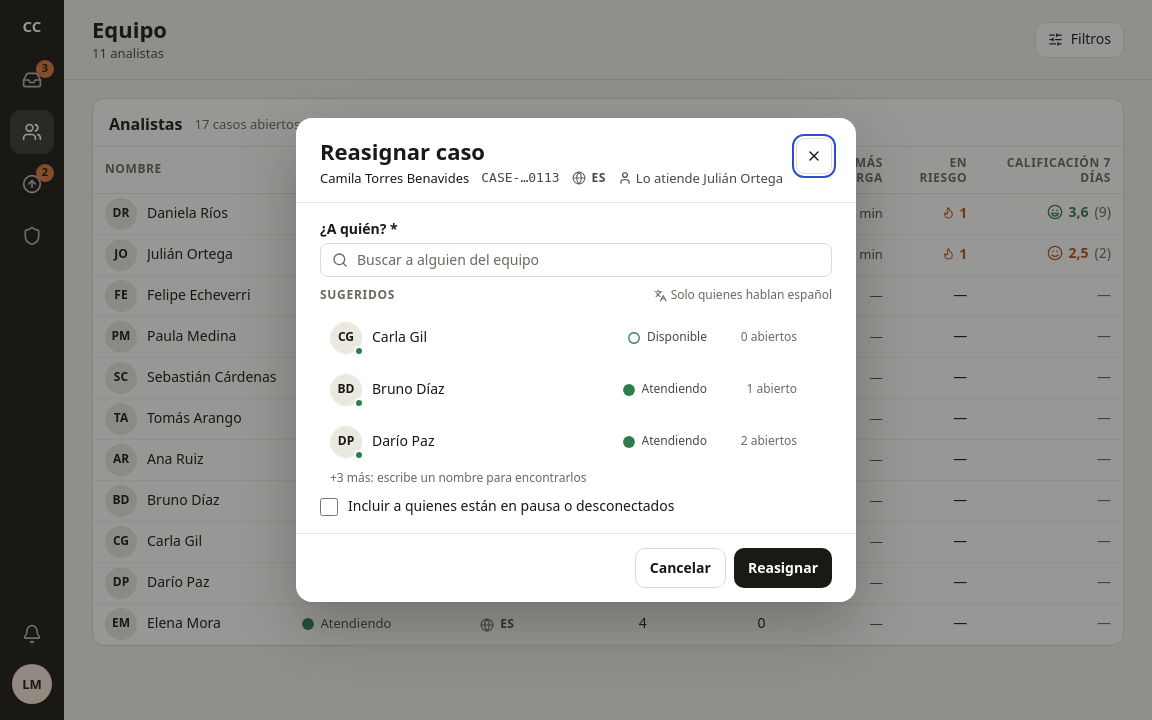
Scenario: reassign dialog ("Reasignar caso") › suggests three speakers, searches the rest and includes paused people on demand
Expected: the text "Lo atiende Julián Ortega" is shown, [636,169,783,188]
Expected: the text "Sugeridos" is shown, [320,287,395,304]
Type "elena" into the search field labelled "Buscar a alguien del equipo" at [576, 260], box [320,243,832,277]
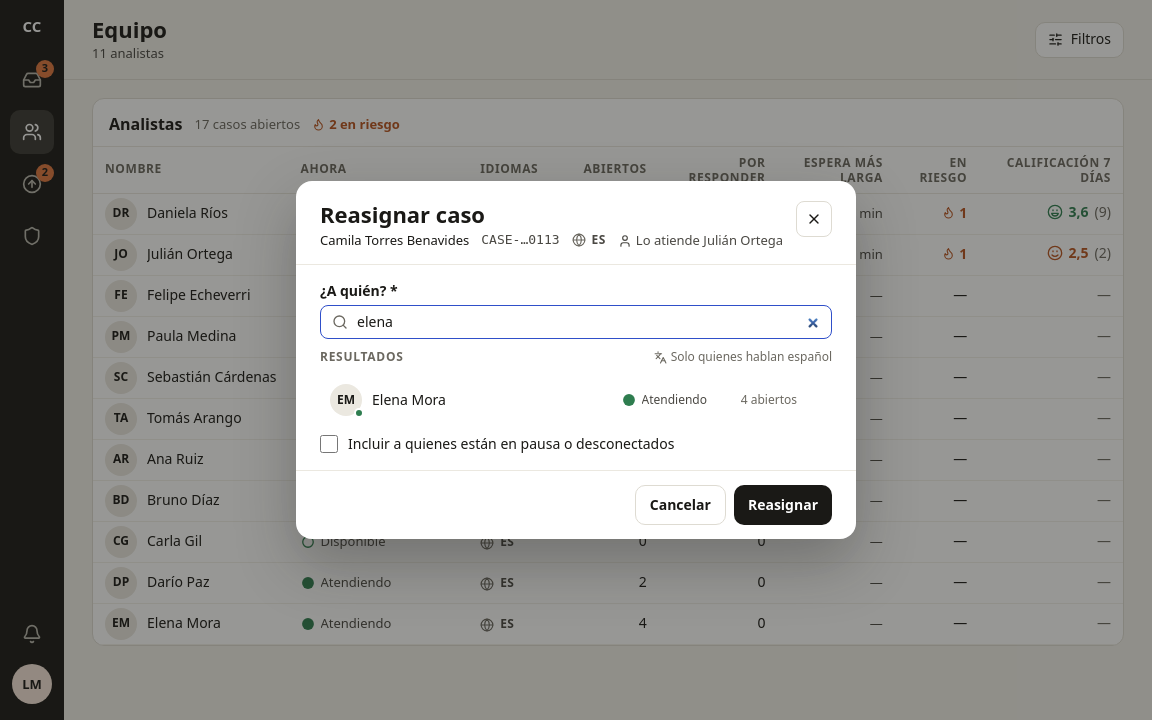
Expected: the text "Resultados" is shown, [320,349,404,366]
Clear the search field named "Buscar a alguien del equipo" at [576, 322], box [320,305,832,339]
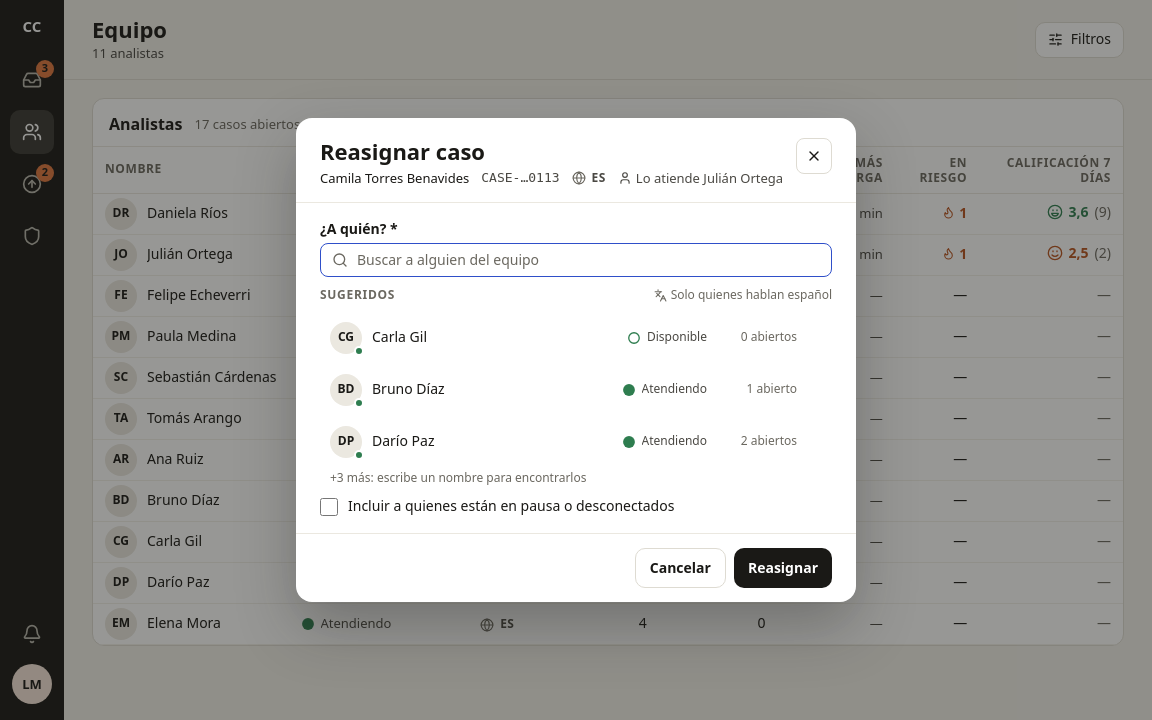
Type "tomas" into the search field labelled "Buscar a alguien del equipo" at [576, 260], box [320,243,832,277]
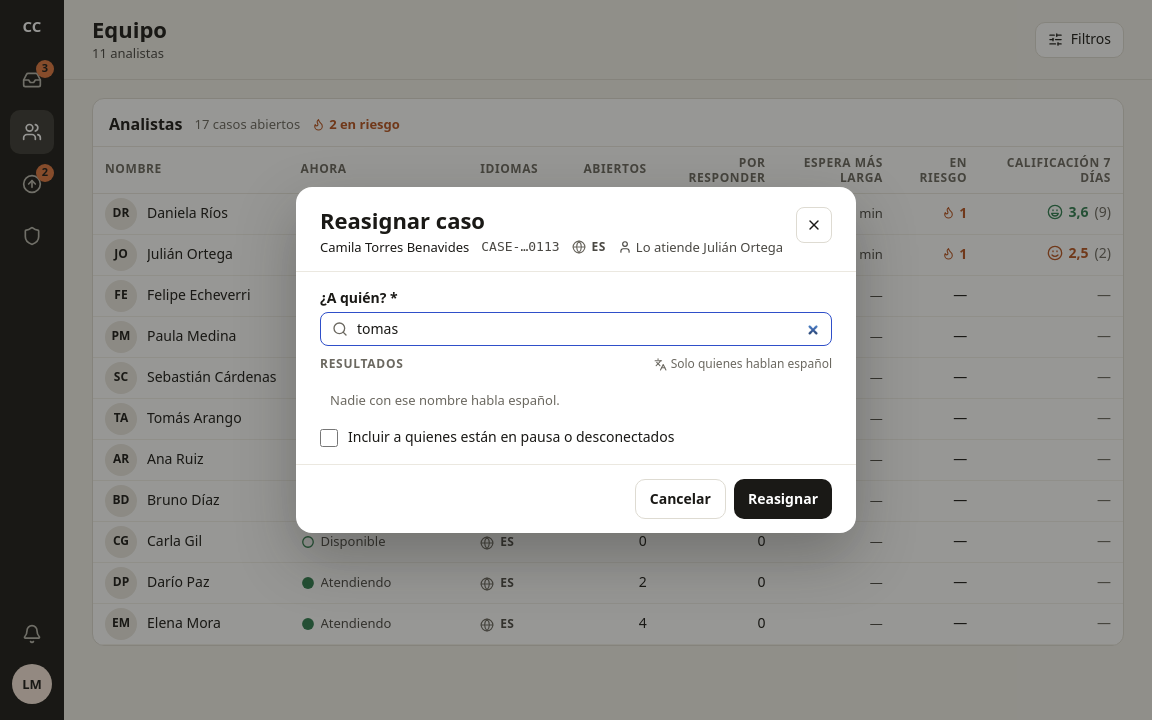
Expected: the text "Nadie con ese nombre habla español." is shown, [330,391,560,409]
Click the checkbox labelled "Incluir a quienes están en pausa o desconectados" at [329, 438], box [320,429,338,447]
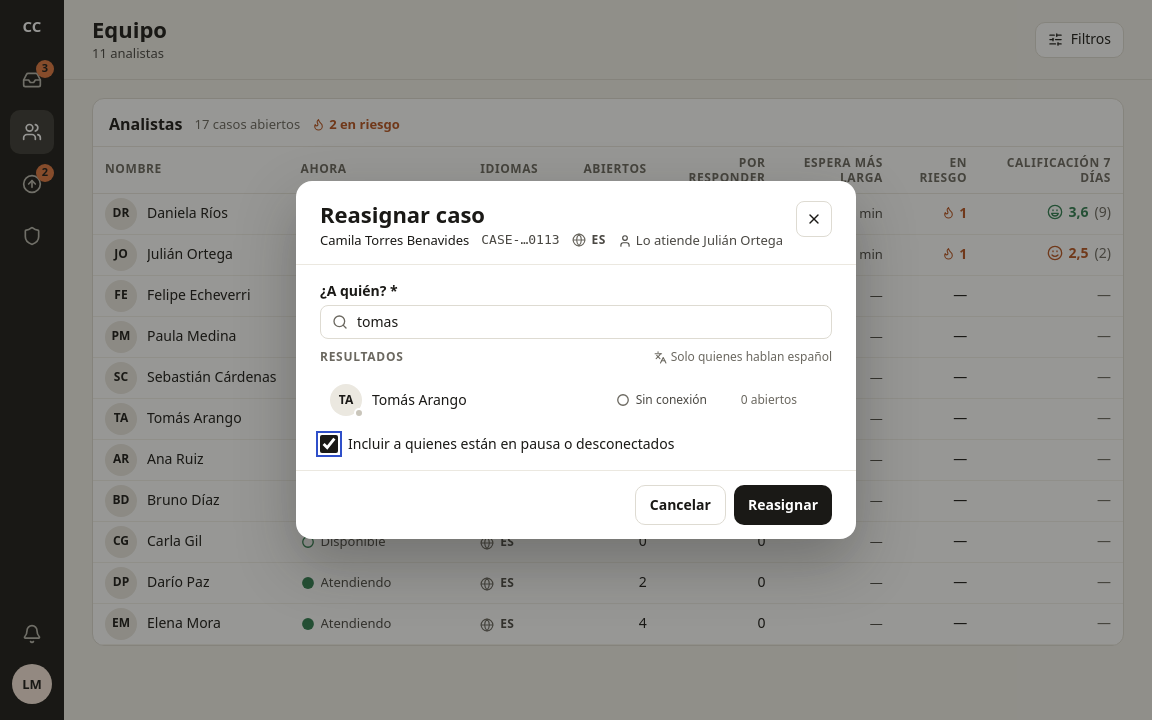
Expected: the radio button labelled "TA Tomás Arango Sin conexión 0 abiertos" is shown, [320,376,832,424]
